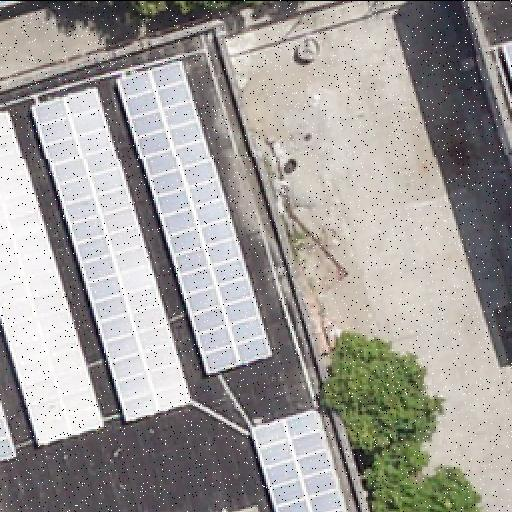solar-panel: (31, 83, 193, 421), (118, 58, 270, 374), (0, 109, 104, 443), (250, 408, 346, 512), (1, 413, 15, 459), (500, 41, 512, 79)
